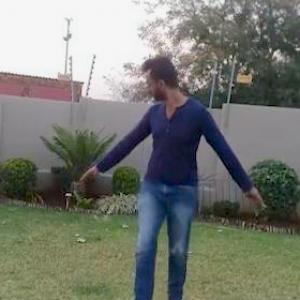land: (60, 51, 291, 299)
